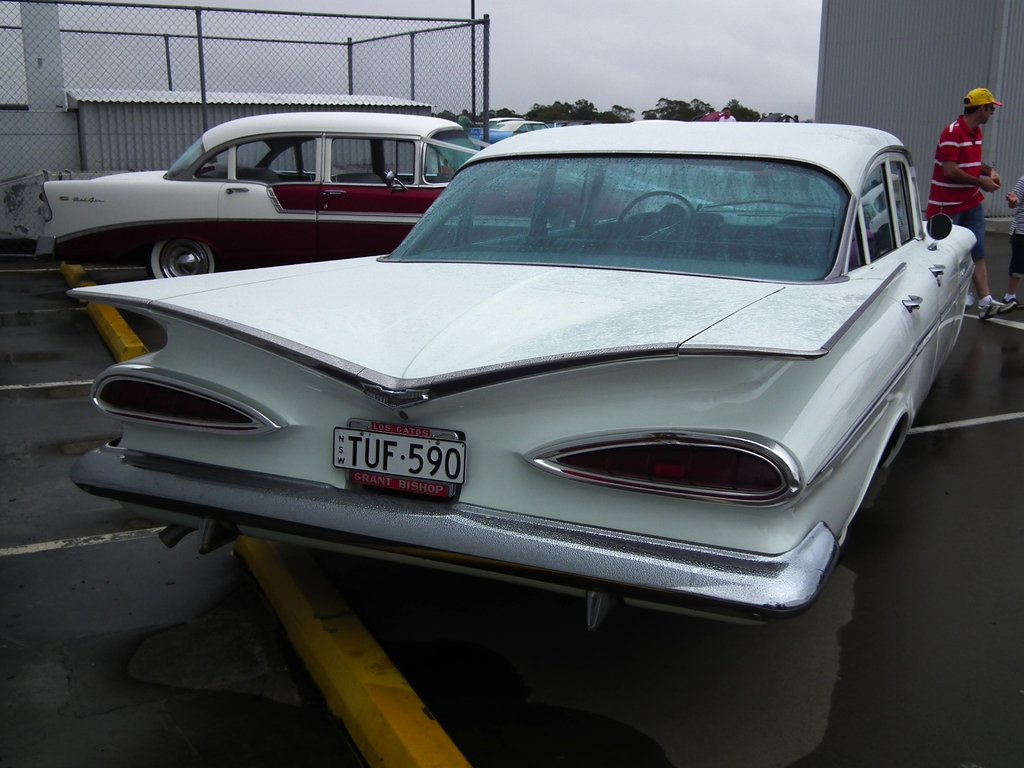car: (65, 87, 990, 652), (16, 76, 523, 309)
